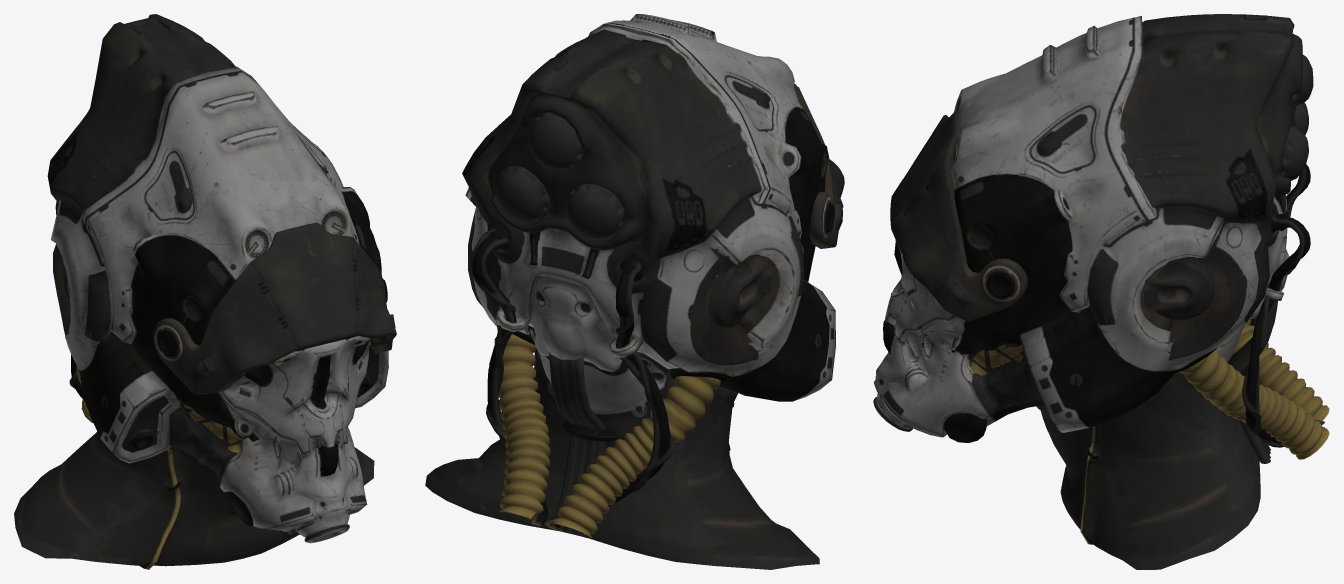
The model's file is helmet_scifi.glb.
3 views of the same model, side by side, from view 1: azimuth 30°, elevation 25°; view 2: azimuth 150°, elevation 25°; view 3: azimuth 270°, elevation 25° (orthographic). The views are drawn at different scales.
Parts seen in each view (by area): view 1: SciFiHelmet; view 2: SciFiHelmet; view 3: SciFiHelmet.
Boxes of the visible parts, x1,y1,x2,y2 form: SciFiHelmet: (14, 14, 396, 569); SciFiHelmet: (425, 14, 844, 569); SciFiHelmet: (873, 14, 1329, 569).
Bounding box in the file's own units: 2.3 × 2.92 × 2.5.
1 material, 1 textured.
